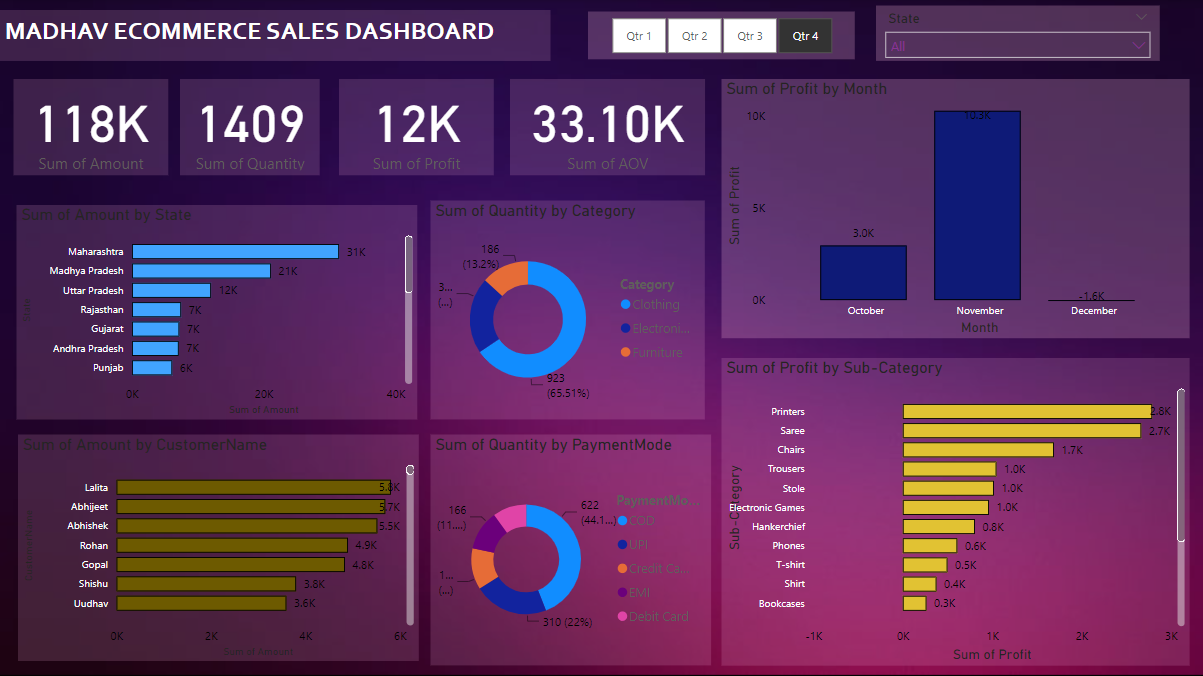

The dashboard page shown, as its layout file describes it:
{"tool":"powerbi","page":{"name":"Page 1","canvas":[1280,720],"ordinal":0},"visuals":[{"type":"textbox","box":[0,12.7,583.3,54],"z":0},{"type":"columnChart","fields":{"Category":["Orders.Order Date.Variation.Date Hierarchy.Month"],"Y":["Details.Profit"]},"box":[764.5,85.8,495.9,275],"z":1000},{"type":"barChart","fields":{"Category":["Details.Sub-Category"],"Y":["Details.Profit"]},"box":[764.5,381.5,495.9,325.8],"z":2000},{"type":"donutChart","fields":{"Category":["Details.Category"],"Y":["Details.Quantity"]},"box":[456.2,214.6,290.9,232.1],"z":3000},{"type":"donutChart","fields":{"Category":["Details.PaymentMode"],"Y":["Details.Quantity"]},"box":[456.2,462.5,297.2,244.8],"z":4000},{"type":"card","fields":{"Values":["Details.Amount"]},"box":[14.3,85.8,163.7,101.7],"z":4001},{"type":"card","fields":{"Values":["Details.Quantity"]},"box":[190.7,85.8,147.8,101.7],"z":4002},{"type":"card","fields":{"Values":["Details.Profit"]},"box":[359.2,85.8,163.7,101.7],"z":4003},{"type":"card","fields":{"Values":["Details.AOV"]},"box":[540.4,85.8,206.6,101.7],"z":4004},{"type":"barChart","fields":{"Category":["Orders.State"],"Y":["Details.Amount"]},"box":[17.5,219.3,424.4,227.3],"z":4005},{"type":"barChart","fields":{"Category":["Orders.CustomerName"],"Y":["Details.Amount"]},"box":[19.1,462.5,424.4,240],"z":4006},{"type":"slicer","fields":{"Values":["Orders.Order Date.Variation.Date Hierarchy.Quarter"]},"box":[623,14.3,282.9,50.9],"z":4007},{"type":"slicer","fields":{"Values":["Orders.State"]},"box":[928.2,7.9,300.4,58.8],"z":4008}]}

Visuals, with their boxes in screenshot pixels (x1, y1, x2, y2), scaled from the page's 1280x720 canvas onto the 1203x676 screenshot:
textbox: {"left": 0, "top": 12, "right": 548, "bottom": 63}
columnChart - Orders.Order Date.Variation.Date Hierarchy.Month x Details.Profit: {"left": 719, "top": 81, "right": 1185, "bottom": 339}
barChart - Details.Sub-Category x Details.Profit: {"left": 719, "top": 358, "right": 1185, "bottom": 664}
donutChart - Details.Category x Details.Quantity: {"left": 429, "top": 201, "right": 702, "bottom": 419}
donutChart - Details.PaymentMode x Details.Quantity: {"left": 429, "top": 434, "right": 708, "bottom": 664}
card - Details.Amount: {"left": 13, "top": 81, "right": 167, "bottom": 176}
card - Details.Quantity: {"left": 179, "top": 81, "right": 318, "bottom": 176}
card - Details.Profit: {"left": 338, "top": 81, "right": 491, "bottom": 176}
card - Details.AOV: {"left": 508, "top": 81, "right": 702, "bottom": 176}
barChart - Orders.State x Details.Amount: {"left": 16, "top": 206, "right": 415, "bottom": 419}
barChart - Orders.CustomerName x Details.Amount: {"left": 18, "top": 434, "right": 417, "bottom": 660}
slicer - Orders.Order Date.Variation.Date Hierarchy.Quarter: {"left": 586, "top": 13, "right": 851, "bottom": 61}
slicer - Orders.State: {"left": 872, "top": 7, "right": 1155, "bottom": 63}
